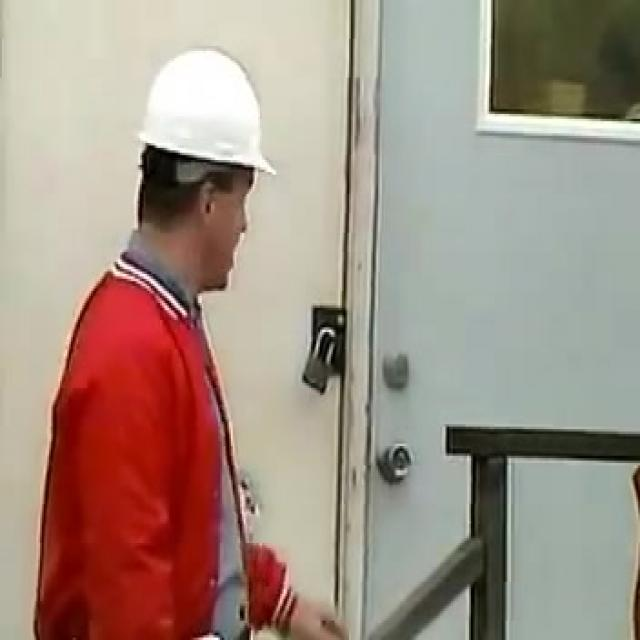Safety-Helmet: (128, 36, 288, 192)
